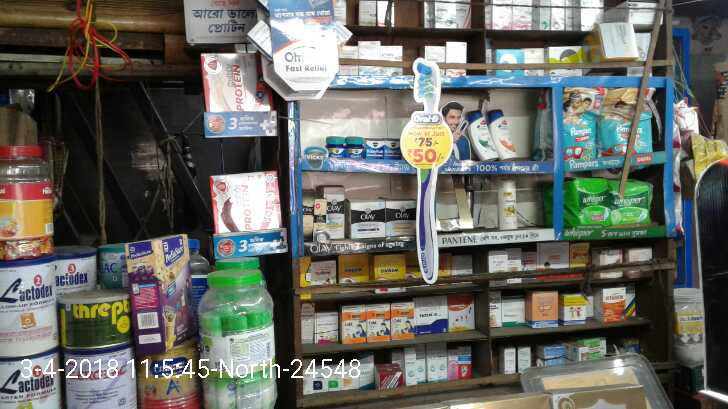vicks: (327, 136, 400, 162)
